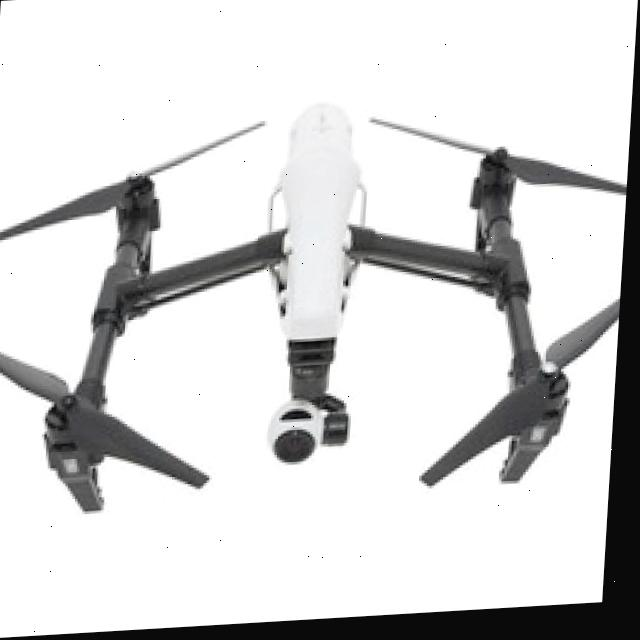drone: (0, 110, 621, 536)
